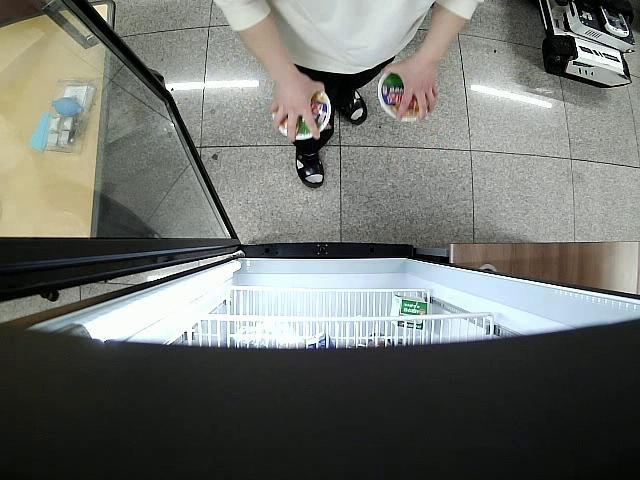09_yukGaeJang: (274, 94, 330, 140), (379, 73, 425, 123)
